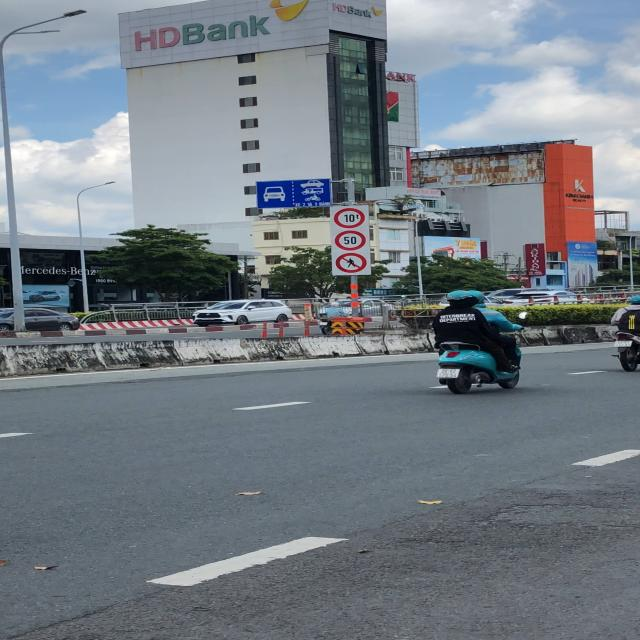Bien bao cam nguoi di bo: (334, 250, 370, 274)
Bien bao toc do toi da cho phep: (331, 228, 371, 251)
